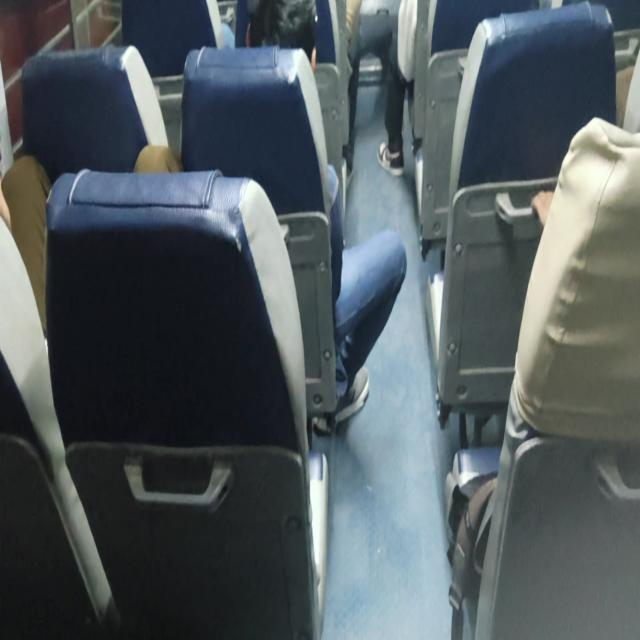person: (235, 0, 326, 74)
